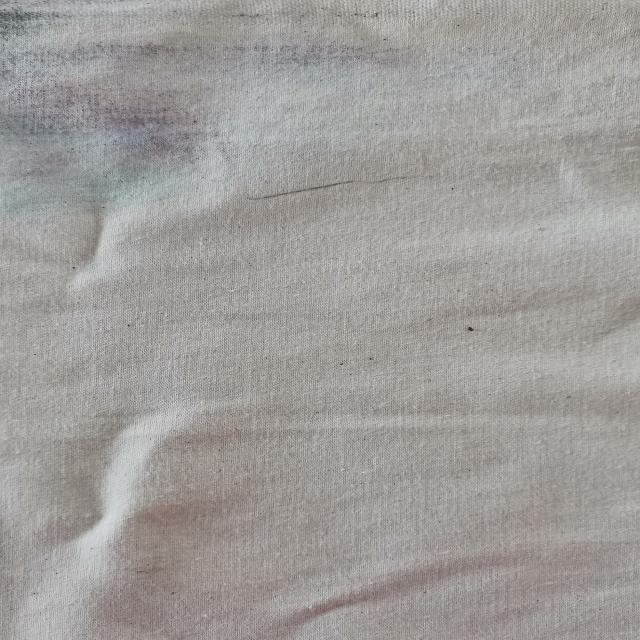taaaches: (4, 2, 558, 219)
